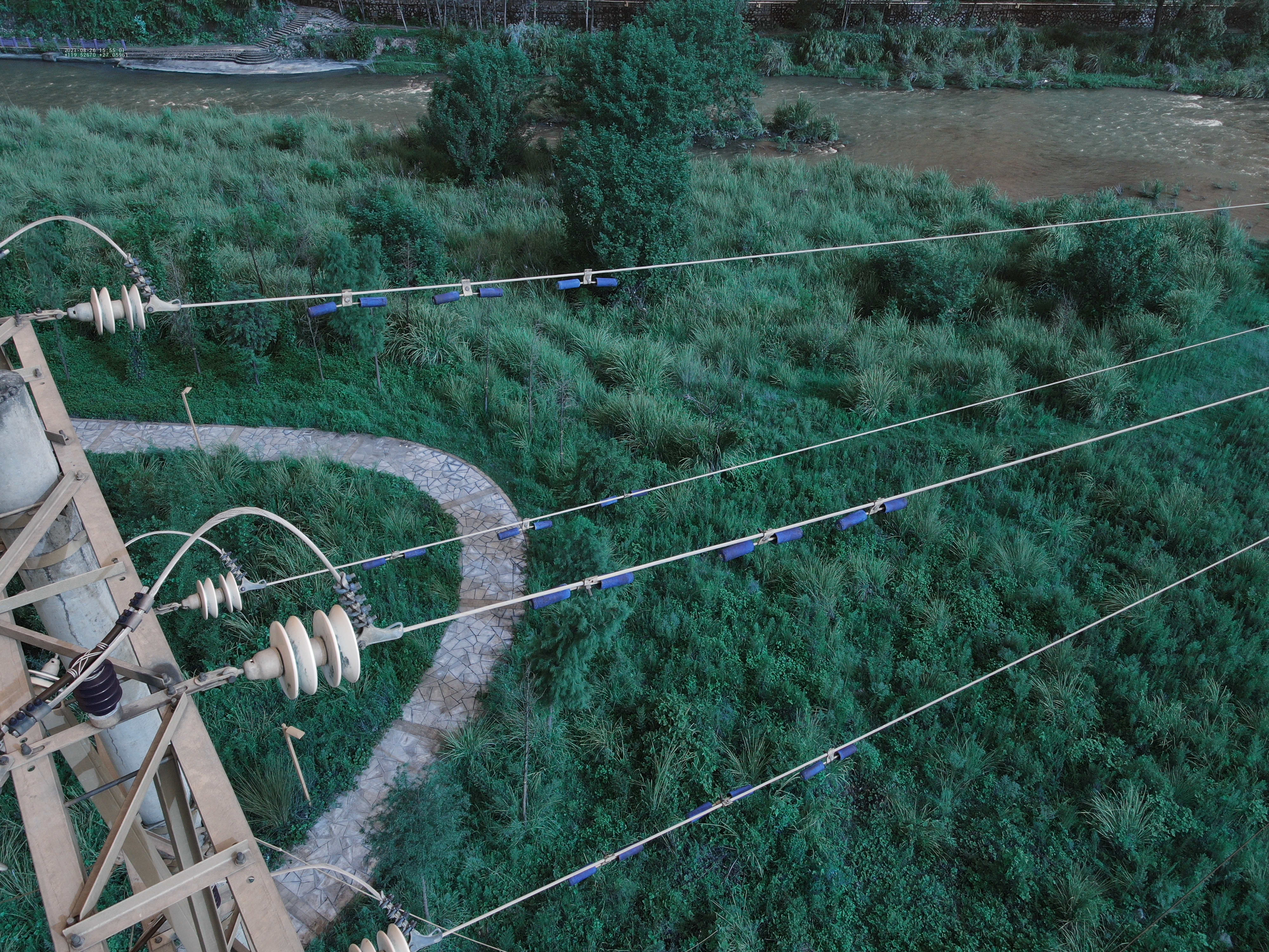severe_soiling_no_discharge_whole: (241, 603, 363, 701), (65, 279, 152, 337), (25, 654, 65, 693)
